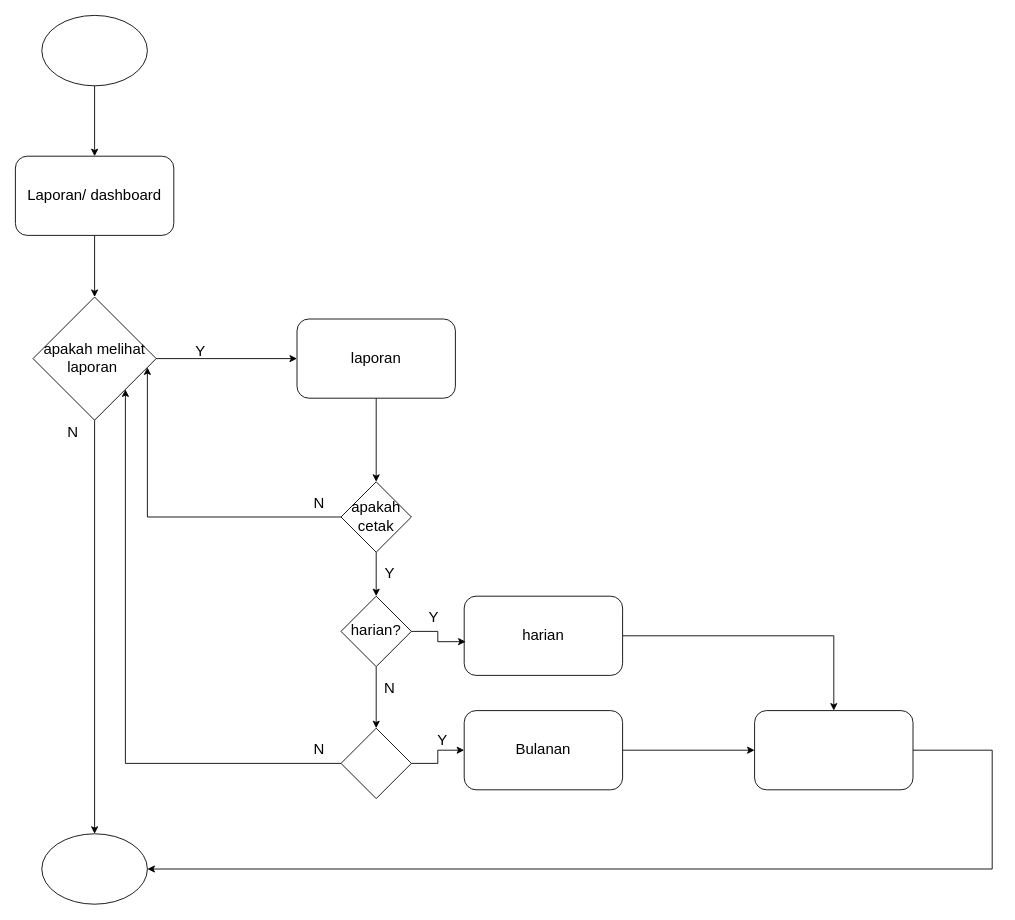
Some shapes in this 1015 by 920 pixel diagram are drawn without their labels. The shapes that lost their labels are listed below. From the top down, each one's centre as x and y in pixels, then its label:
(x=94, y=50): start
(x=375, y=763): bulan?
(x=833, y=750): mencetak
(x=94, y=868): selesai
